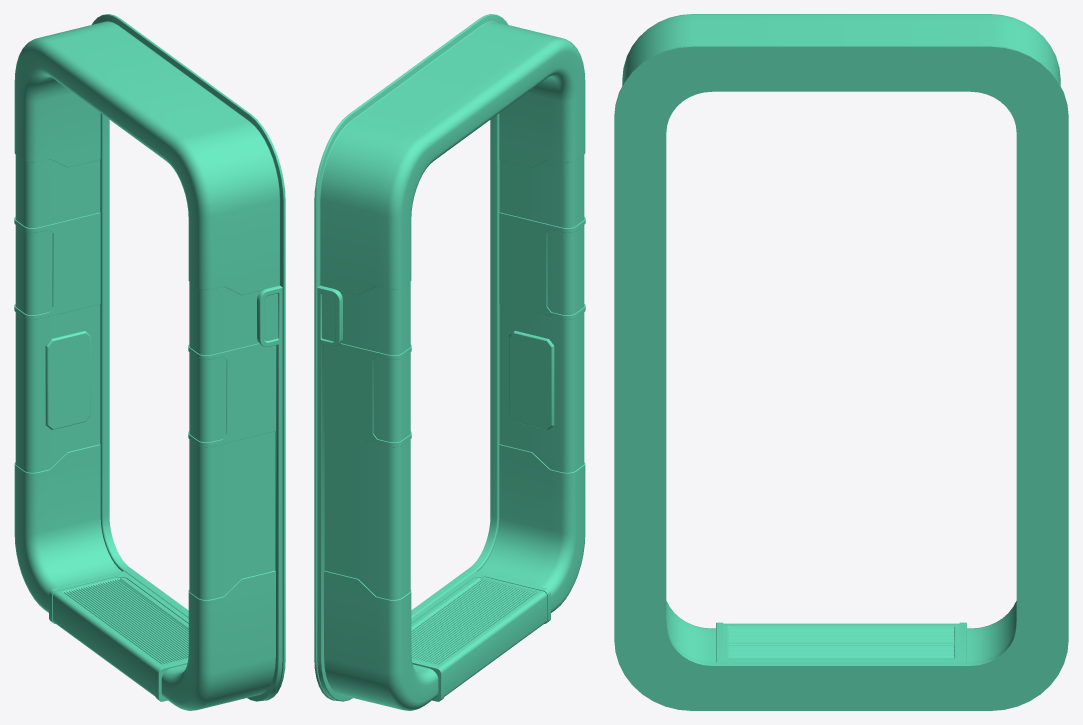
Rendered from DoorsFrame.fbx.
3 renders of one model, left to right at view 1: azimuth 30°, elevation 25°; view 2: azimuth 150°, elevation 25°; view 3: azimuth 270°, elevation 25°, orthographic. The views are drawn at different scales.
Parts seen in each view (by area): view 1: SM_DoorsFrame; view 2: SM_DoorsFrame; view 3: SM_DoorsFrame.
Boxes of the visible parts, x1,y1,x2,y2 form: SM_DoorsFrame: (14, 14, 285, 710); SM_DoorsFrame: (314, 14, 585, 710); SM_DoorsFrame: (614, 14, 1068, 710).
Size of the model in its own units: 0.4182 by 2.82 by 1.75.
